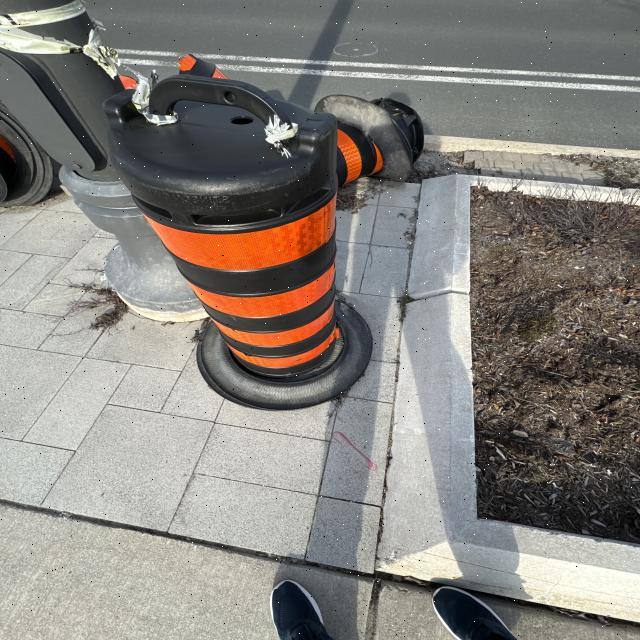Teraffic Barrel: (105, 75, 372, 409), (180, 54, 423, 186), (315, 94, 424, 182), (179, 54, 228, 79)
